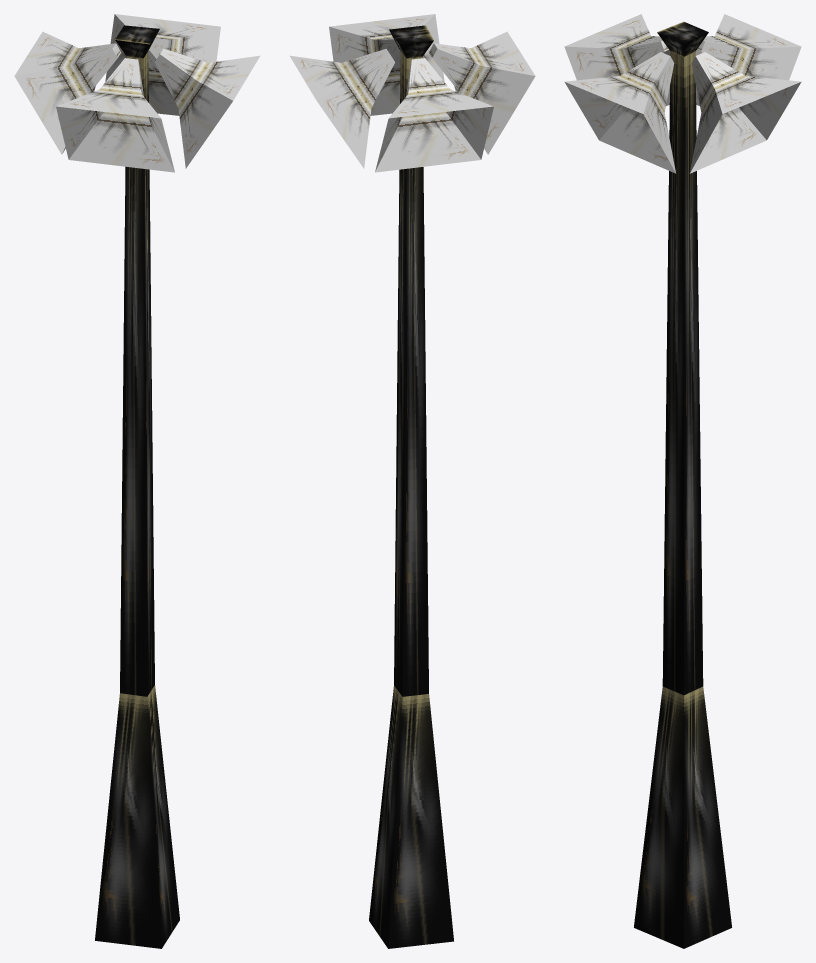
3 renders of one model, left to right at view 1: azimuth 30°, elevation 25°; view 2: azimuth 150°, elevation 25°; view 3: azimuth 270°, elevation 25°, orthographic.
Parts seen in each view (by area): view 1: prim154-Box01; view 2: prim154-Box01; view 3: prim154-Box01.
Boxes of the visible parts, box(x1,y1,x2,y2) form: prim154-Box01: box(14, 14, 259, 948); prim154-Box01: box(290, 14, 535, 948); prim154-Box01: box(564, 14, 801, 948).
Bounding box in the file's own units: 123 × 512 × 123.
2 materials, 2 textured.
